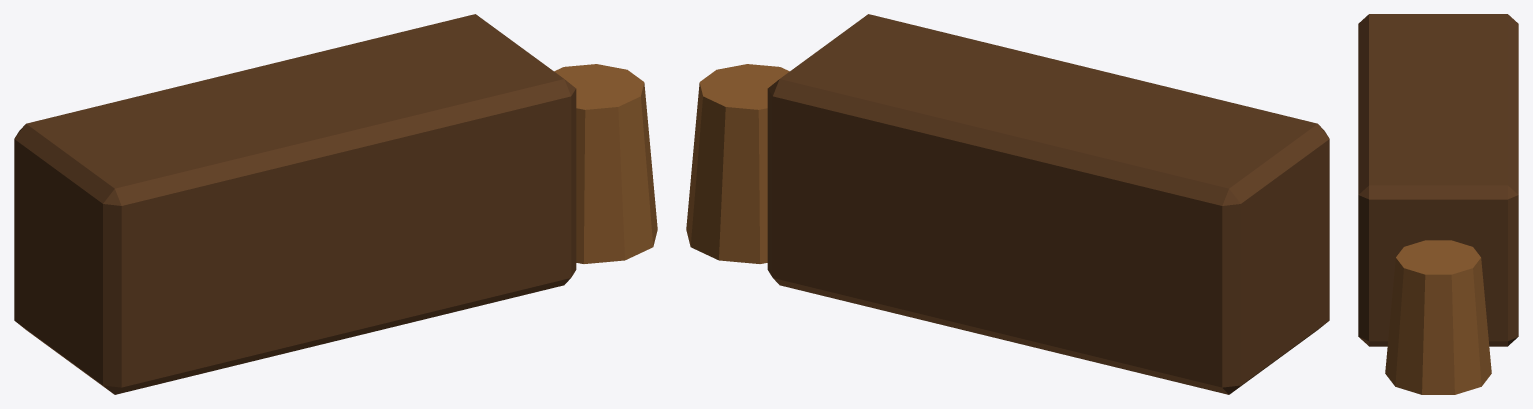
Rendered from PR_Decor_Yalak.fbx.
The picture shows the model from 3 angles, left to right: view 1: azimuth 30°, elevation 25°; view 2: azimuth 150°, elevation 25°; view 3: azimuth 270°, elevation 25°; orthographic projection. The views are drawn at different scales.
Visible parts, largest first — view 1: PR_Decor_Yalak; view 2: PR_Decor_Yalak; view 3: PR_Decor_Yalak.
Part boxes in pixels (left/top/right/bottom): PR_Decor_Yalak: left=14, top=14, right=657, bottom=394; PR_Decor_Yalak: left=686, top=14, right=1329, bottom=394; PR_Decor_Yalak: left=1358, top=14, right=1518, bottom=394.
Bounding box in the file's own units: 1.49 × 0.5 × 0.45.
